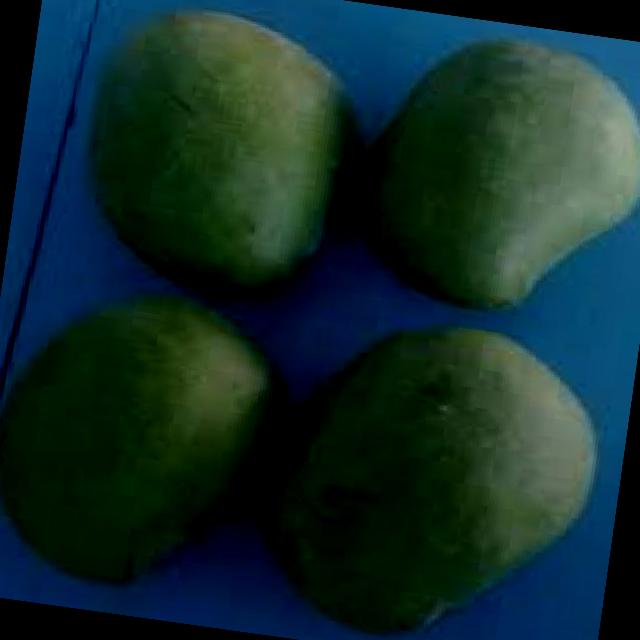Mango: (251, 299, 612, 640), (0, 269, 301, 605), (68, 0, 371, 309), (341, 17, 640, 329)
